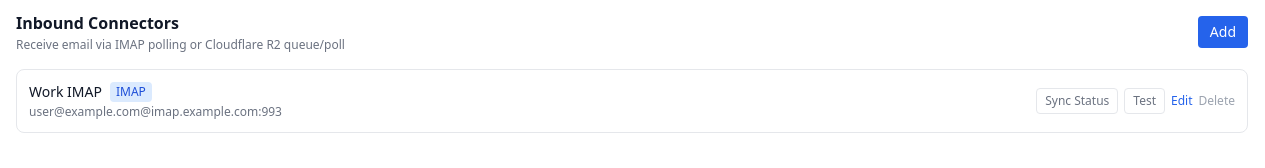
InboundConnectorsTab › tests an inbound connector and shows error result
Expected: the text "Work IMAP" is shown, x1=29 y1=82 x2=102 y2=102
What coordinates should you click on to do the following:
click the button "Test"
I would click on:
 (1145, 101)
Its box is x1=1124 y1=88 x2=1165 y2=114.
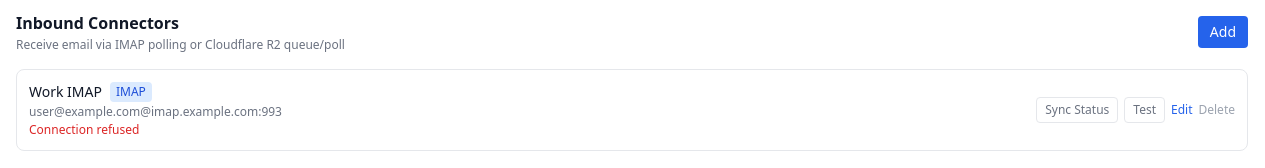
Now the text "Connection refused" is shown, box x1=29 y1=121 x2=139 y2=138
